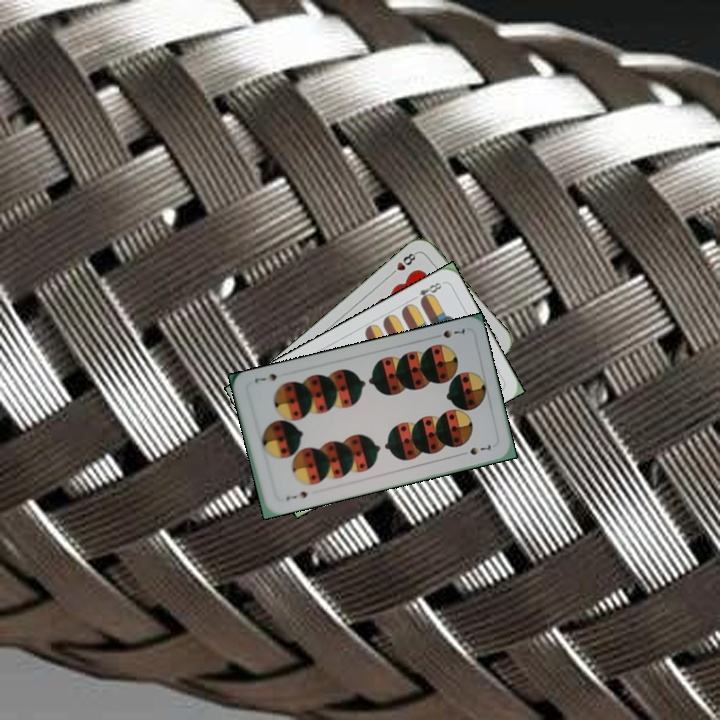E8: (408, 278, 444, 306)
H8: (386, 248, 420, 279)
S7: (439, 324, 468, 341), (282, 487, 310, 504)
